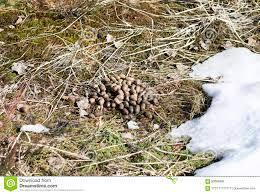Elk: (87, 72, 154, 110)
